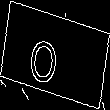O_N: (38, 25, 72, 85)
